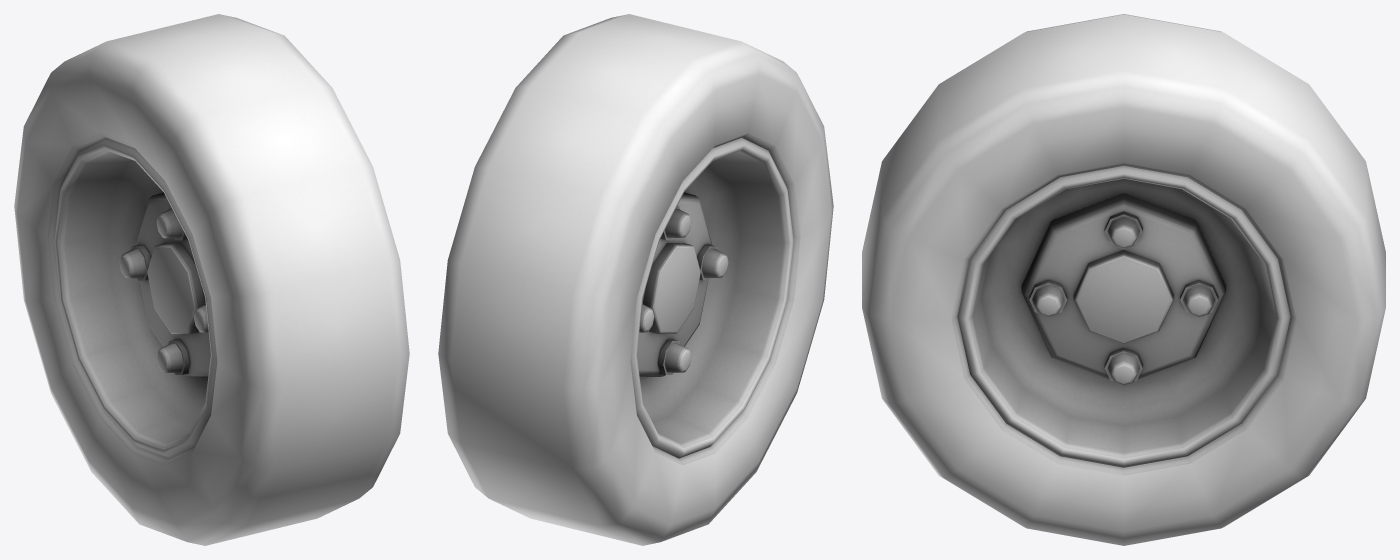
Rendered from Tire.obj.
3 renders of one model, left to right at view 1: azimuth 30°, elevation 25°; view 2: azimuth 150°, elevation 25°; view 3: azimuth 270°, elevation 25°, orthographic.
Visible parts, largest first — view 1: Cylinder.004_Cylinder.023; view 2: Cylinder.004_Cylinder.023; view 3: Cylinder.004_Cylinder.023.
Part boxes in pixels (x1,y1,x2,y2): Cylinder.004_Cylinder.023: [14, 14, 409, 545]; Cylinder.004_Cylinder.023: [438, 14, 833, 545]; Cylinder.004_Cylinder.023: [862, 14, 1385, 545].
Bounding box in the file's own units: 0.7115 × 2 × 2.
